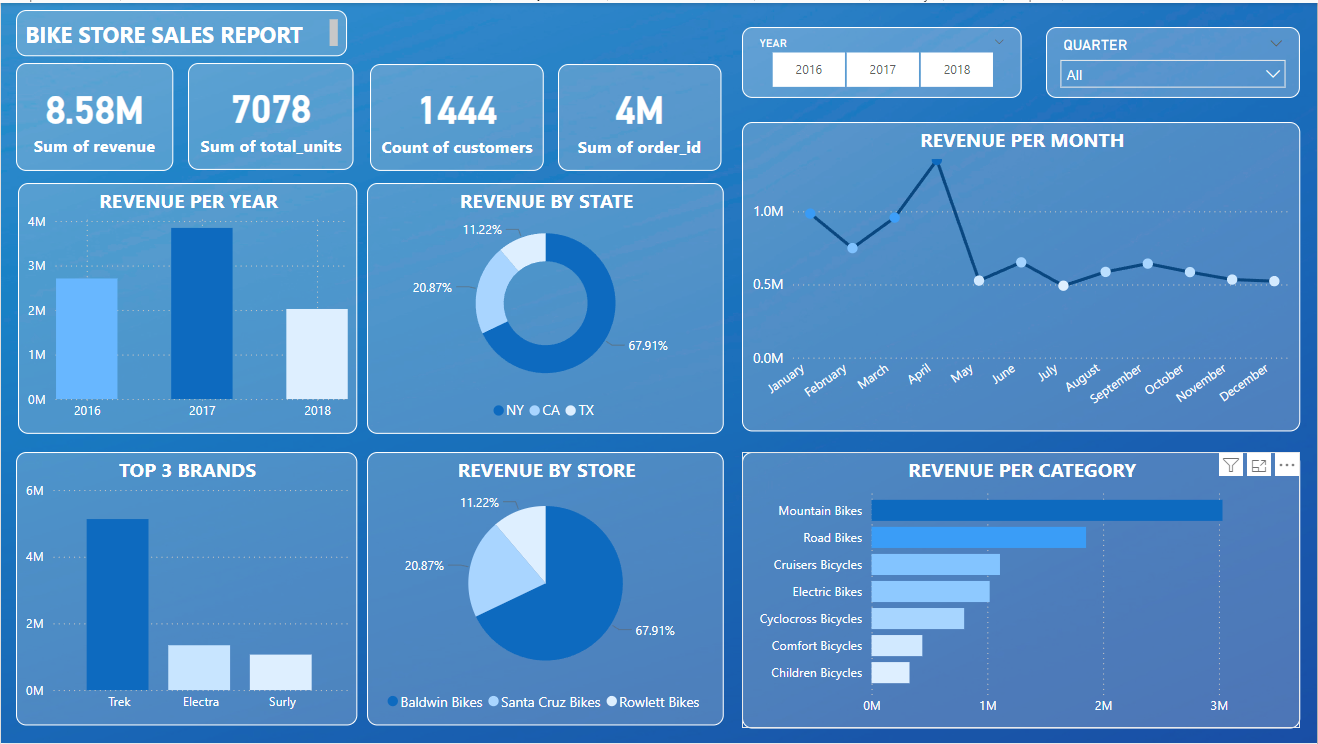

What the dashboard file says about the page in this screenshot:
{"tool":"powerbi","page":{"name":"Page 4","canvas":[1280,720],"ordinal":3},"visuals":[{"type":"lineChart","title":"REVENUE PER MONTH","fields":{"Category":["Query1.order_date.Variation.Date Hierarchy.Month"],"Y":["Sum(Query1.revenue)"]},"box":[720.7,116.2,543.2,301.2],"z":0},{"type":"columnChart","title":"TOP 3 BRANDS","fields":{"Category":["Query1.brand_name"],"Y":["Sum(Query1.revenue)"]},"box":[14.6,436.7,331.7,265.5],"z":1000},{"type":"pieChart","title":"REVENUE BY STORE","fields":{"Category":["Query1.store_name"],"Y":["Sum(Query1.revenue)"]},"box":[356,436.7,347.4,265.7],"z":2000},{"type":"donutChart","title":"REVENUE BY STATE","fields":{"Category":["Query1.state"],"Y":["Sum(Query1.revenue)"]},"box":[356,175.5,347.4,244.2],"z":3000},{"type":"barChart","title":"REVENUE PER CATEGORY","fields":{"Category":["Query1.category_name"],"Y":["Sum(Query1.revenue)"]},"box":[720.7,436.7,543.2,268.9],"z":4000},{"type":"columnChart","title":"REVENUE PER YEAR","fields":{"Y":["Sum(Query1.revenue)"],"Category":["Query1.order_date.Variation.Date Hierarchy.Year"]},"box":[16.5,175.1,329.7,244.1],"z":5000},{"type":"slicer","fields":{"Values":["Query1.order_date.Variation.Date Hierarchy.Year"]},"box":[720.7,23.7,272.1,68.8],"z":6000},{"type":"slicer","fields":{"Values":["Query1.order_date.Variation.Date Hierarchy.Quarter"]},"box":[1016.5,23.7,247.4,68.8],"z":7000},{"type":"card","fields":{"Values":["Sum(Query1.revenue)"]},"box":[14.6,58.4,152.7,105],"z":8000},{"type":"card","fields":{"Values":["Sum(Query1.total_units)"]},"box":[181.9,58.4,161.5,104.1],"z":9000},{"type":"card","fields":{"Values":["Count(Query1.customers)"]},"box":[358.9,59.3,169.2,104.1],"z":10000},{"type":"card","fields":{"Values":["Sum(Query1.order_id)"]},"box":[541.8,59.3,158.5,104.1],"z":11000},{"type":"textbox","box":[14.6,6.8,321.9,44.7],"z":11001}]}

Visuals, with their boxes in screenshot pixels (x1, y1, x2, y2), scaled from the page's 1280x720 canvas onto the 1318x744 screenshot:
"REVENUE PER MONTH" lineChart: 742:120:1301:431
"TOP 3 BRANDS" columnChart: 15:451:357:726
"REVENUE BY STORE" pieChart: 367:451:724:726
"REVENUE BY STATE" donutChart: 367:181:724:434
"REVENUE PER CATEGORY" barChart: 742:451:1301:729
"REVENUE PER YEAR" columnChart: 17:181:356:433
slicer - Query1.order_date.Variation.Date Hierarchy.Year: 742:24:1022:96
slicer - Query1.order_date.Variation.Date Hierarchy.Quarter: 1047:24:1301:96
card - Sum(Query1.revenue): 15:60:172:169
card - Sum(Query1.total_units): 187:60:354:168
card - Count(Query1.customers): 370:61:544:169
card - Sum(Query1.order_id): 558:61:721:169
textbox: 15:7:346:53
